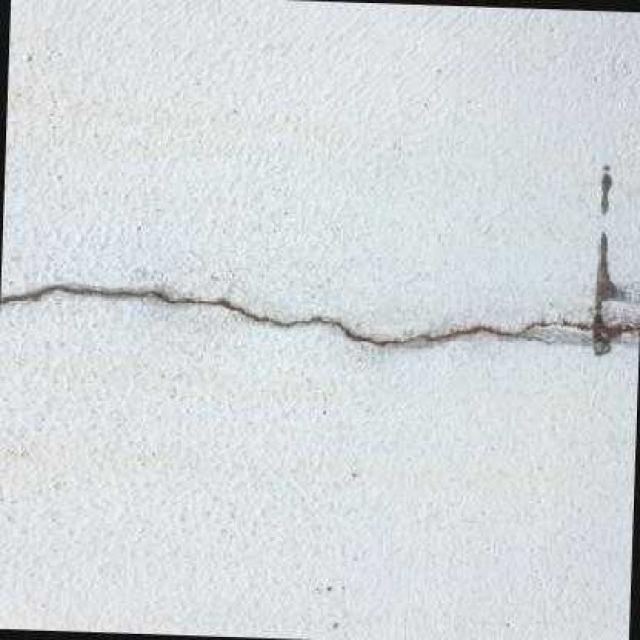D00: (4, 283, 585, 347)
